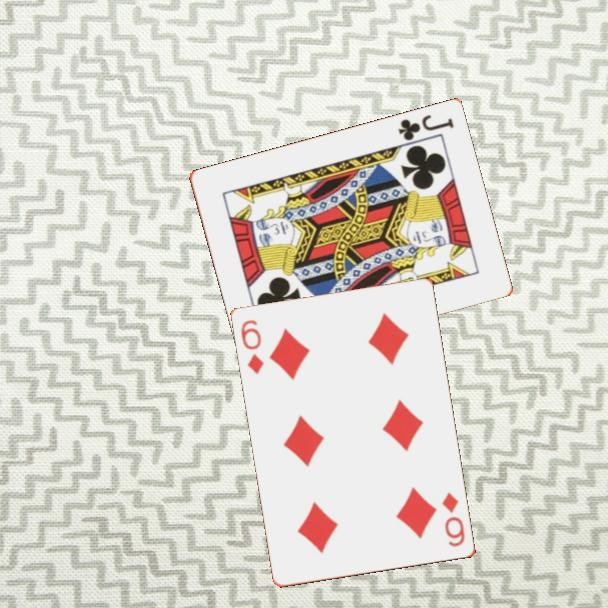c11: (394, 111, 456, 144)
d06: (238, 316, 267, 378), (439, 489, 468, 550)
